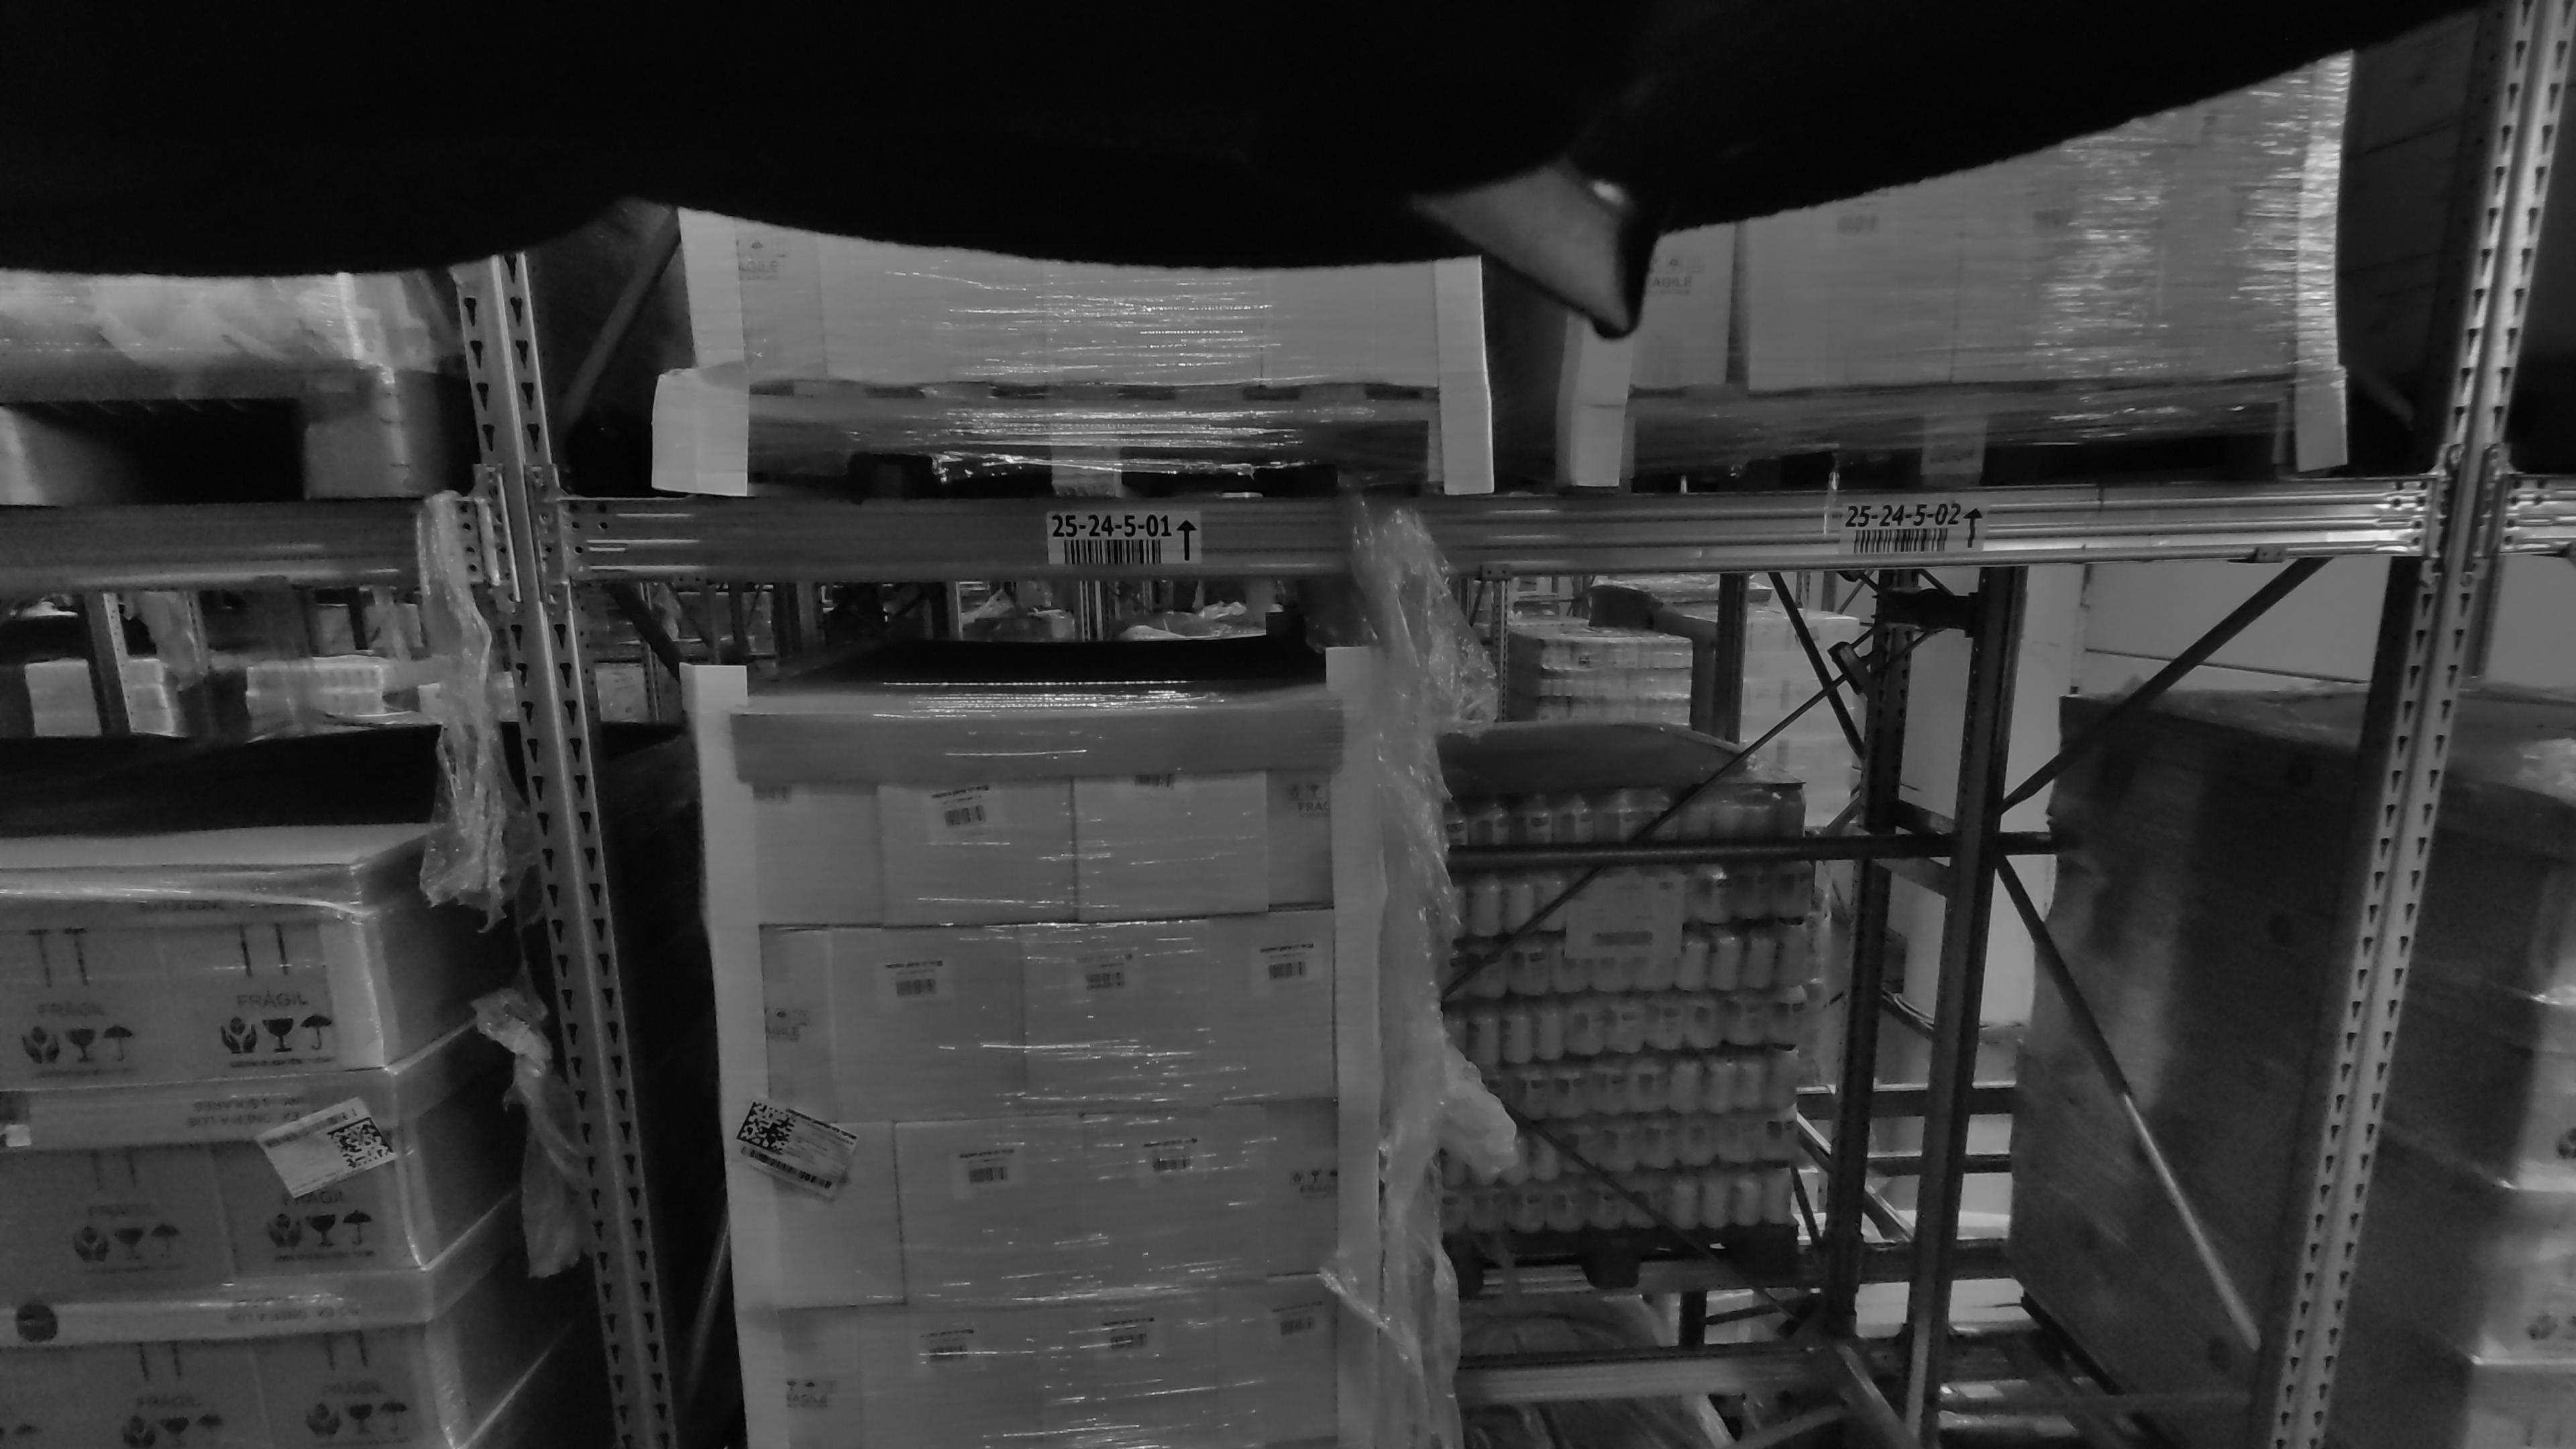empty-shelf: (1534, 582, 2111, 1449)
